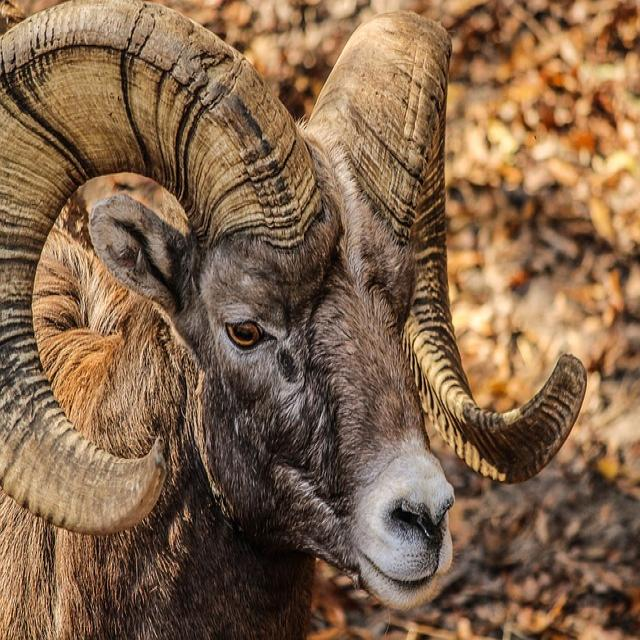goat: (0, 0, 589, 640)
